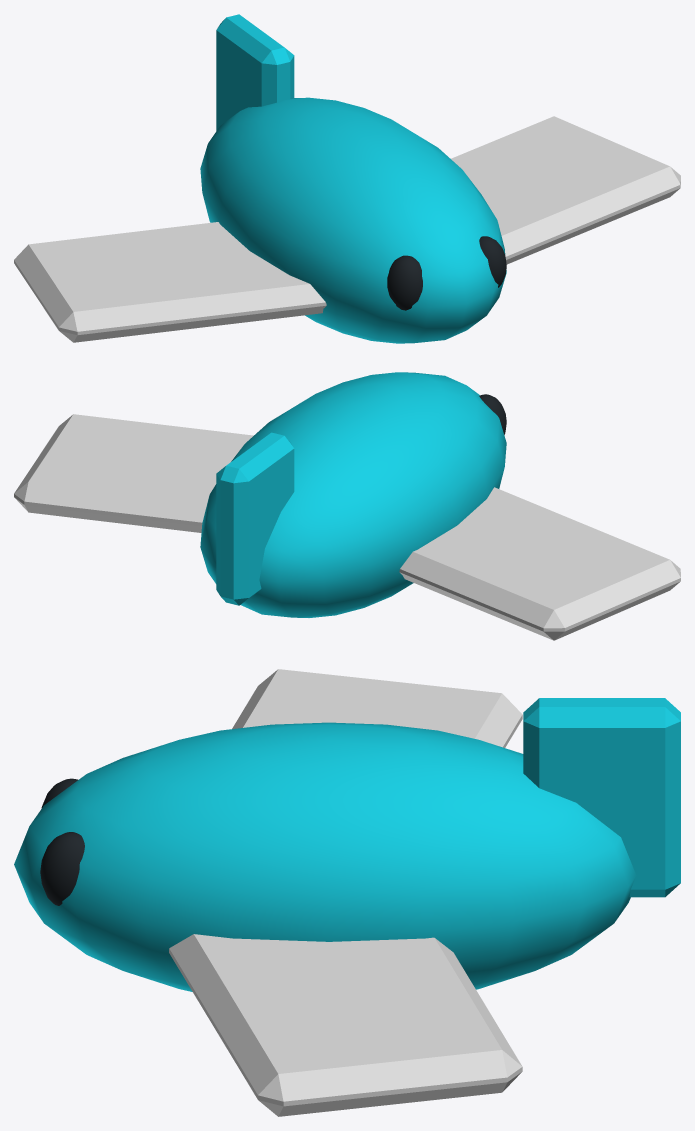
The model's file is enemy-glider.glb.
The picture shows the model from 3 angles, top to bottom: view 1: azimuth 30°, elevation 25°; view 2: azimuth 150°, elevation 25°; view 3: azimuth 270°, elevation 25°; orthographic projection. The views are drawn at different scales.
Visible parts, largest first — view 1: enemy-glider; view 2: enemy-glider; view 3: enemy-glider.
Boxes of the visible parts, x1,y1,x2,y2 form: enemy-glider: (14, 14, 680, 343); enemy-glider: (14, 372, 680, 640); enemy-glider: (14, 669, 680, 1116).
Bounding box in the file's own units: 0.9511 × 0.3 × 0.635.
